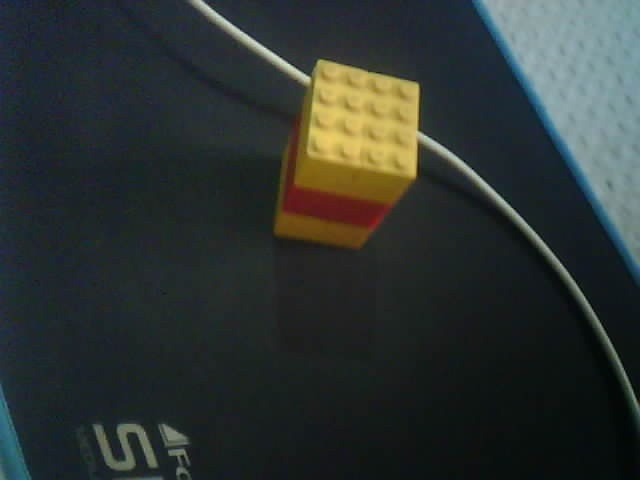lego: (273, 56, 420, 252)
